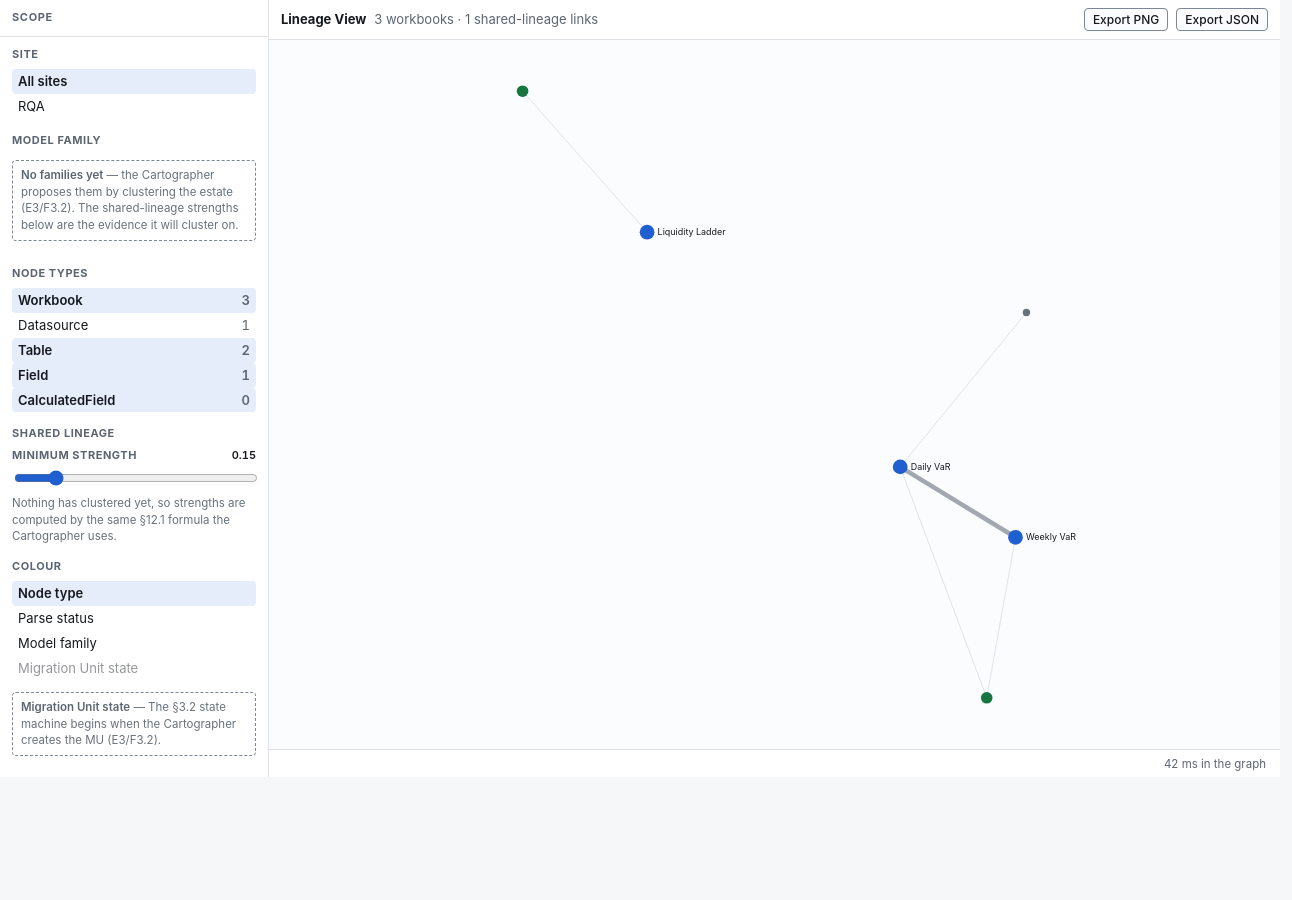
Scenario: export › exports the graph as JSON, with the components of every link
Click the button "Export JSON" at (1222, 20), box x1=1176 y1=8 x2=1268 y2=31
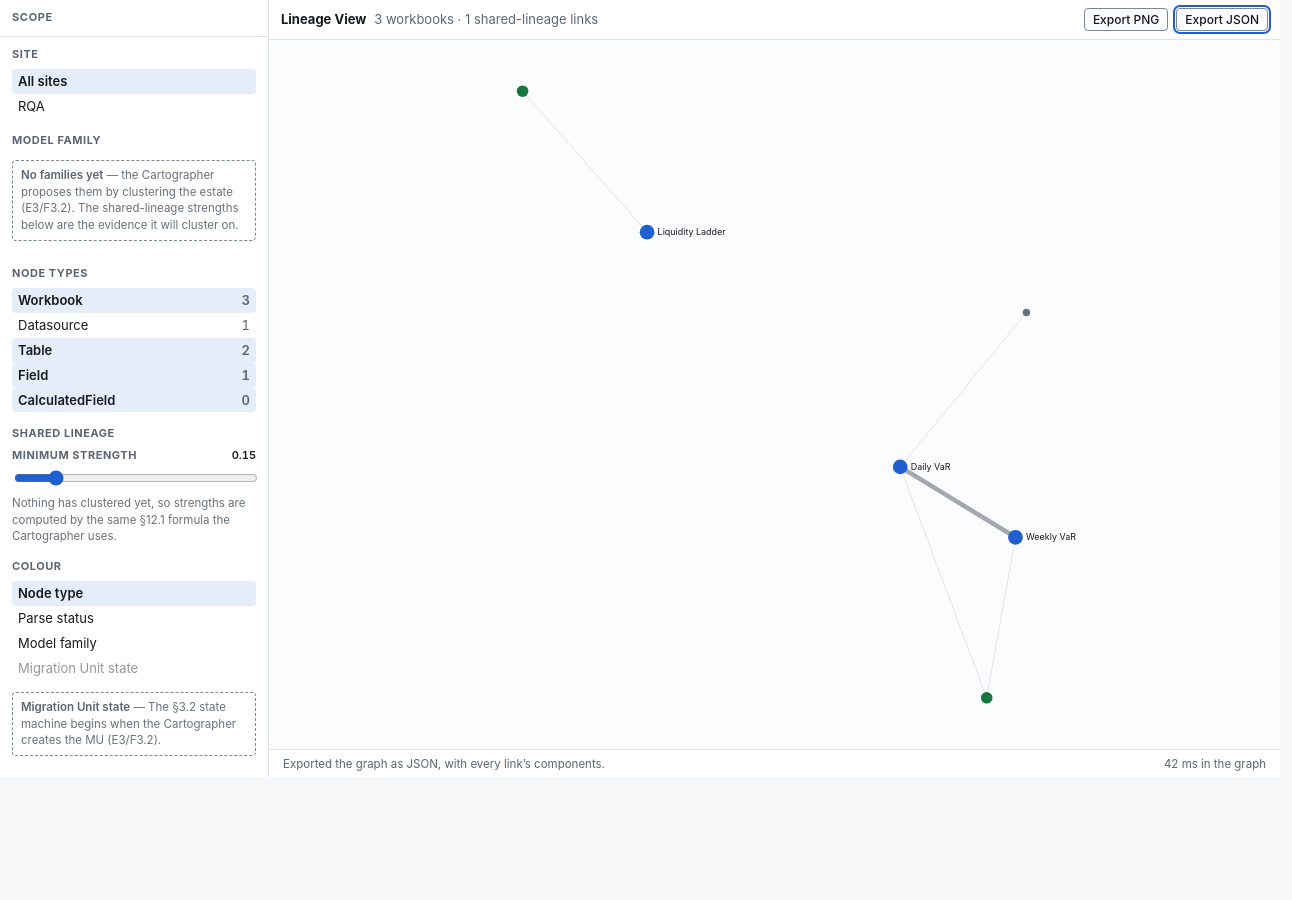
Expected: the text "Exported the graph as JSON, with every link’s components." is shown, x1=283 y1=756 x2=605 y2=772
